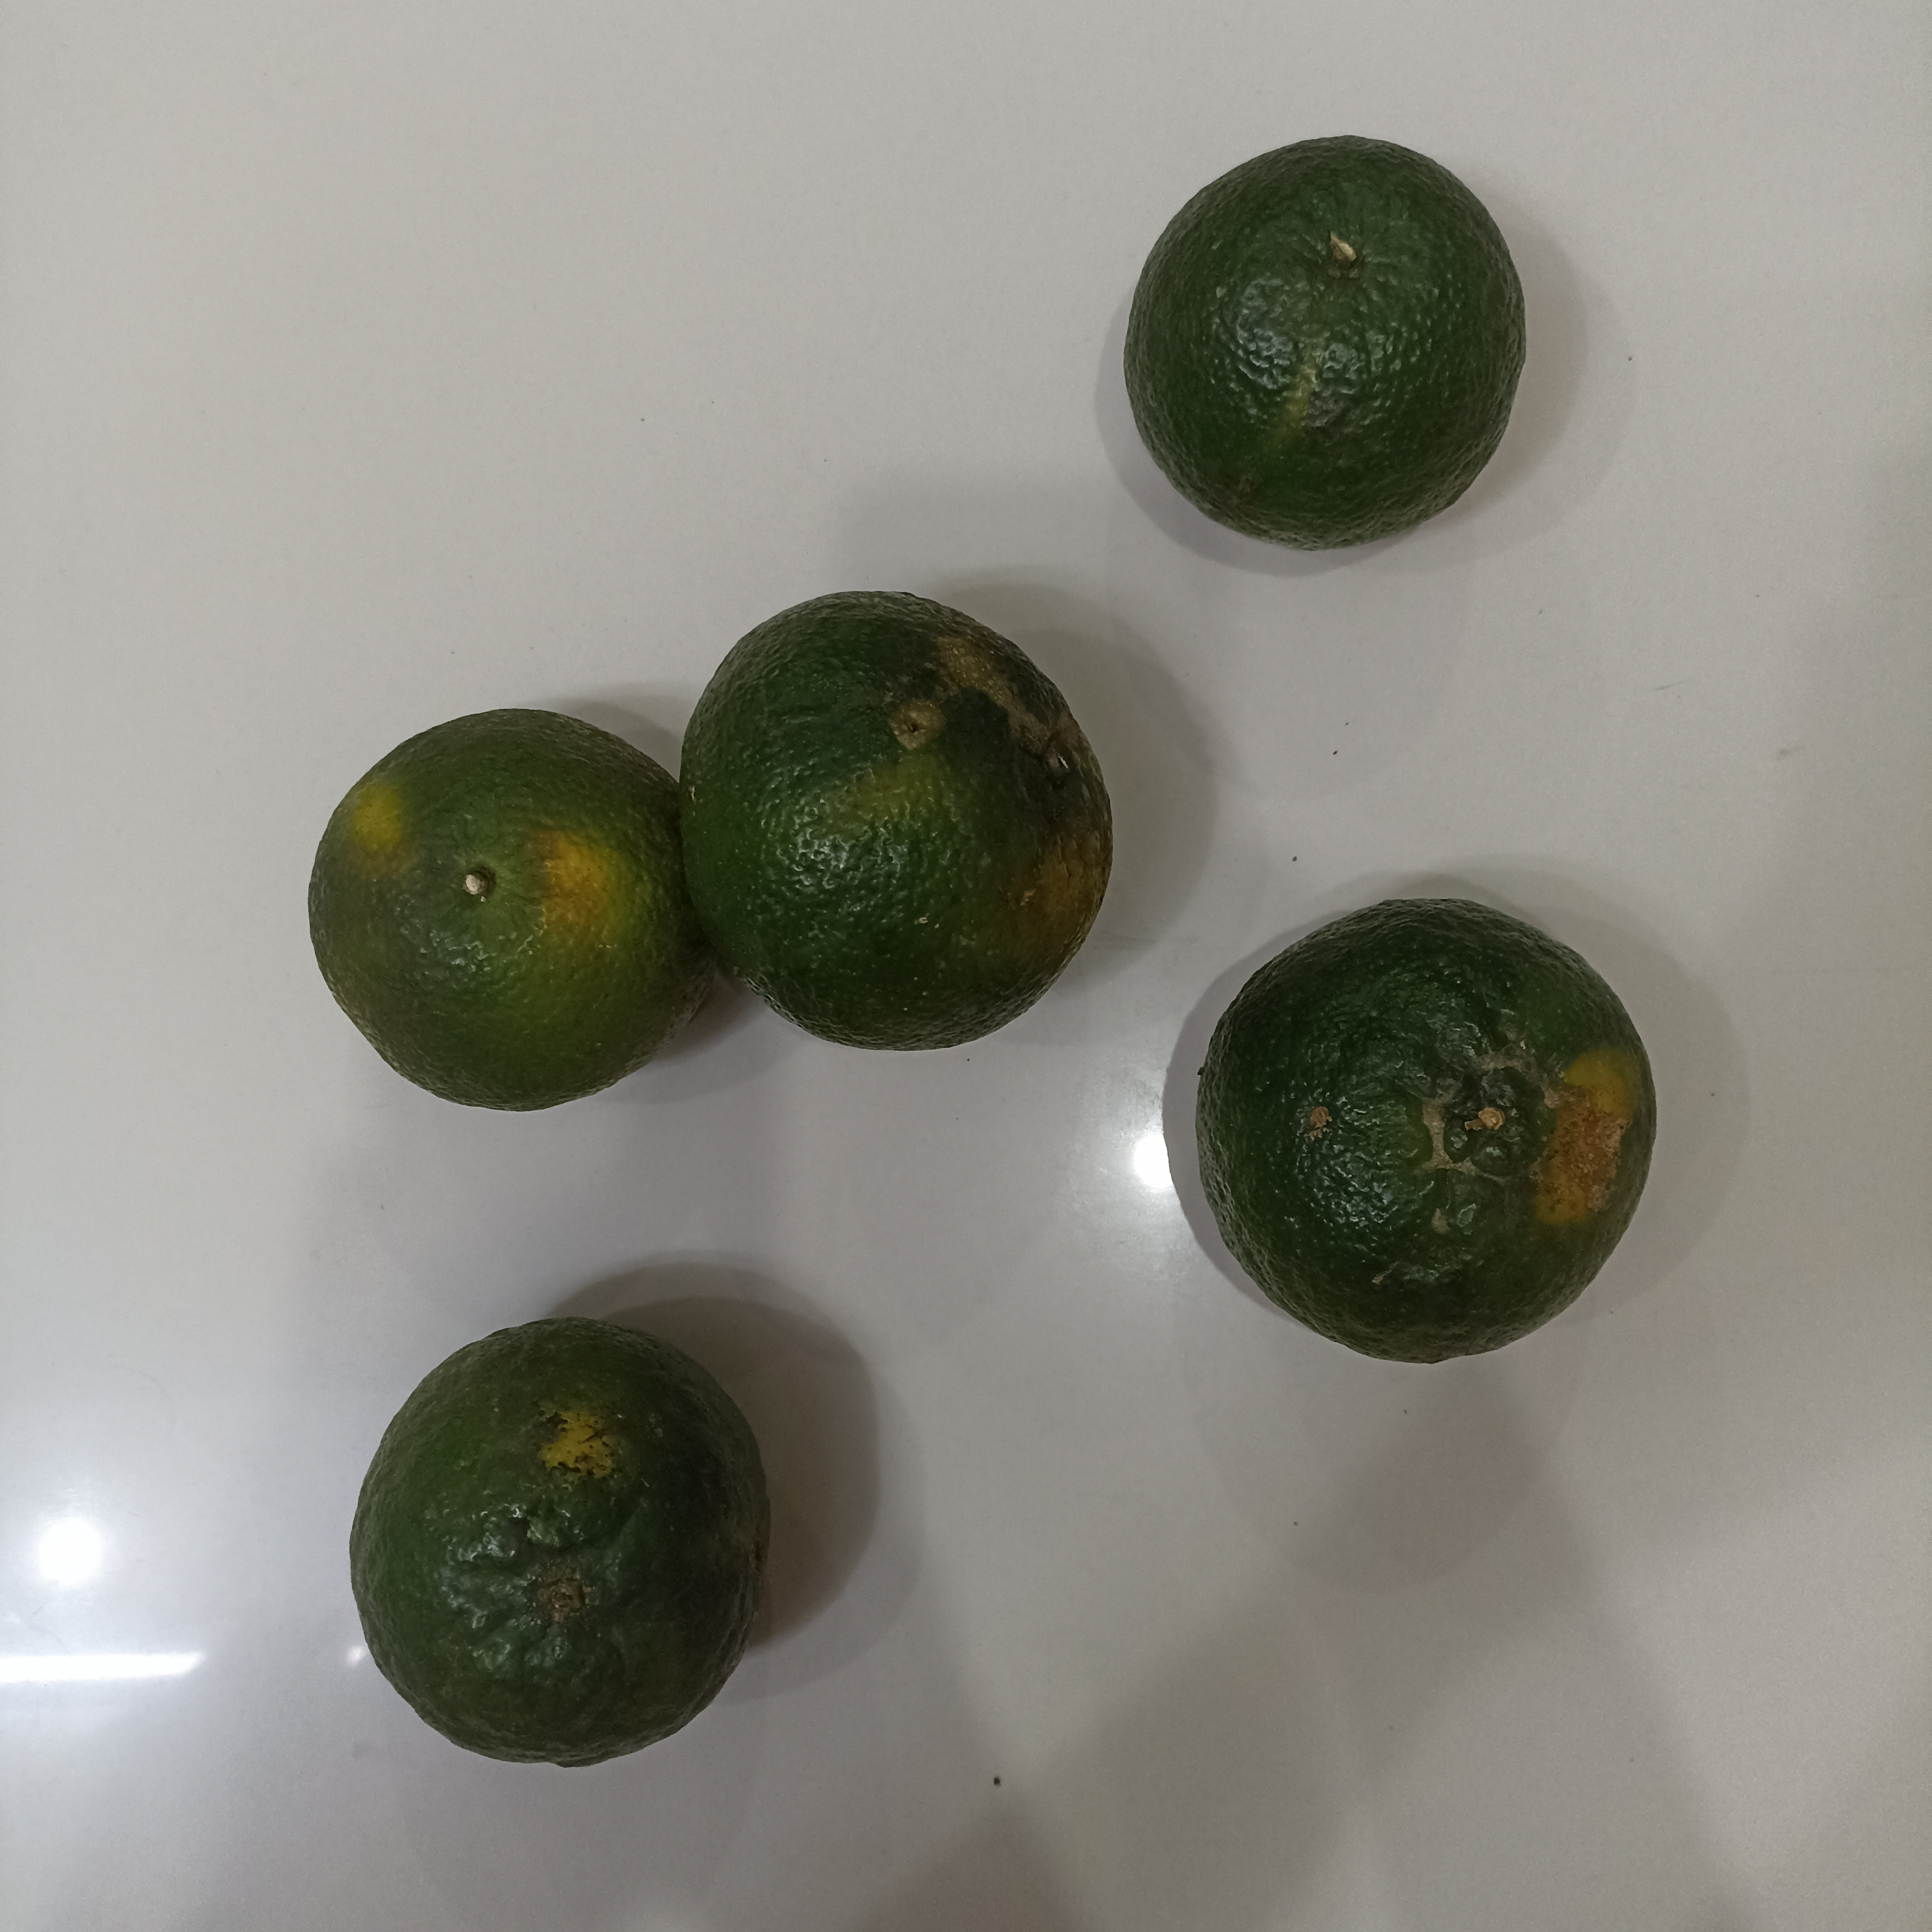Cam: (1190, 890, 1659, 1359), (673, 587, 1113, 1052), (352, 1322, 763, 1771), (1120, 137, 1525, 555), (304, 711, 680, 1112)
